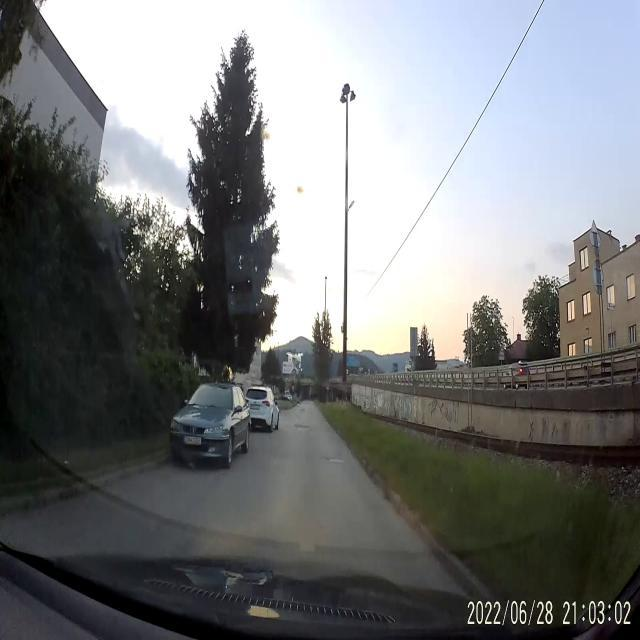Manhole: (326, 456, 344, 467)
Pothole: (292, 421, 312, 433)
